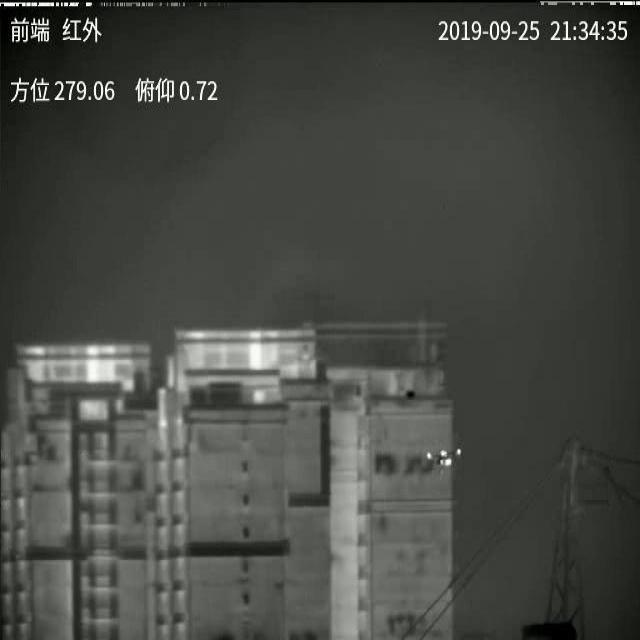drone: (433, 448, 462, 467), (426, 452, 432, 459)
